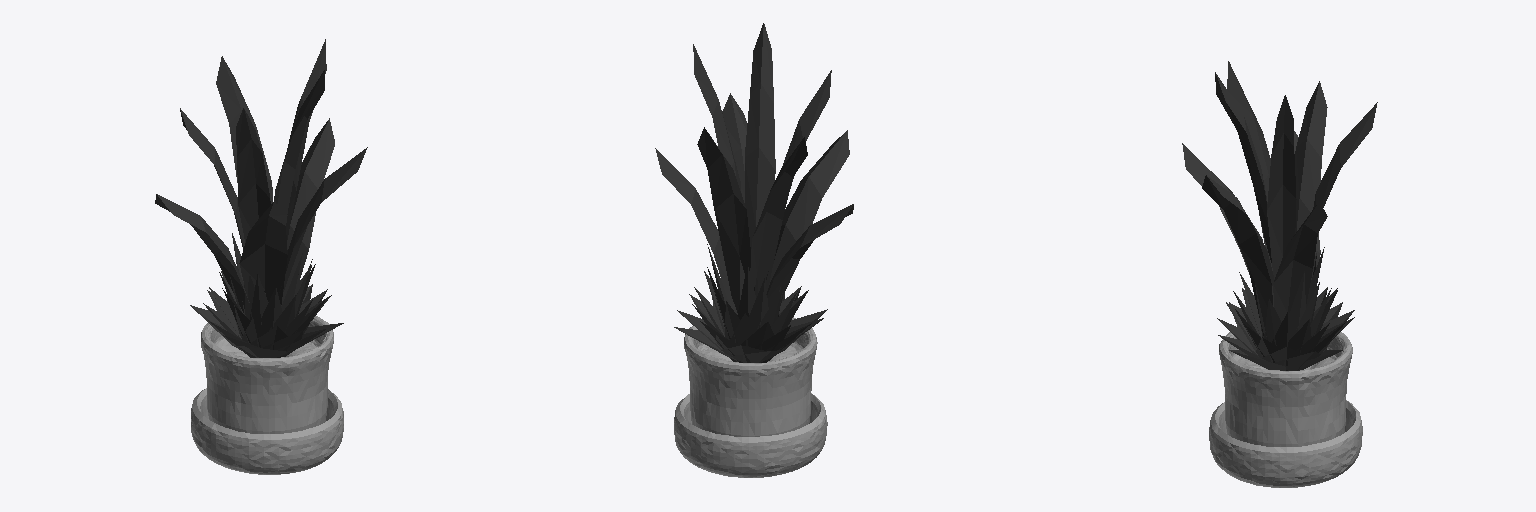
The model's file is Indoor.obj.
The picture shows the model from 3 angles: view 1: azimuth 30°, elevation 25°; view 2: azimuth 150°, elevation 25°; view 3: azimuth 270°, elevation 25°; orthographic projection.
Visible parts, largest first — view 1: Low-Poly_Plant_.001_Cube.000, Low-Poly_Plant__Cube.055; view 2: Low-Poly_Plant_.001_Cube.000, Low-Poly_Plant__Cube.055; view 3: Low-Poly_Plant_.001_Cube.000, Low-Poly_Plant__Cube.055.
Part boxes in pixels (x1,y1,x2,y2): Low-Poly_Plant_.001_Cube.000: (155,39,367,357); Low-Poly_Plant__Cube.055: (191,316,343,474); Low-Poly_Plant_.001_Cube.000: (655,23,853,362); Low-Poly_Plant__Cube.055: (674,317,827,477); Low-Poly_Plant_.001_Cube.000: (1182,61,1377,370); Low-Poly_Plant__Cube.055: (1209,332,1362,487).
Size of the model in its own units: 0.6533 by 1.35 by 0.5929.